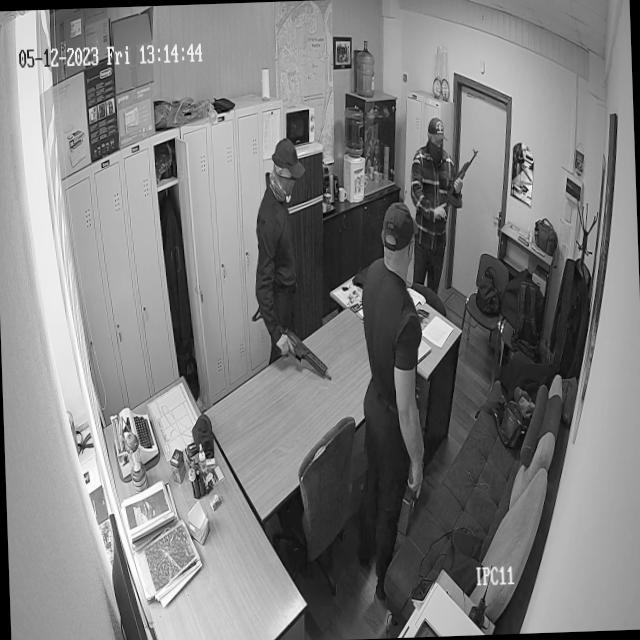gun: (252, 298, 334, 386), (434, 146, 480, 230), (407, 447, 428, 505)
person with a gun: (352, 192, 432, 554), (248, 135, 342, 395), (405, 115, 484, 288)
